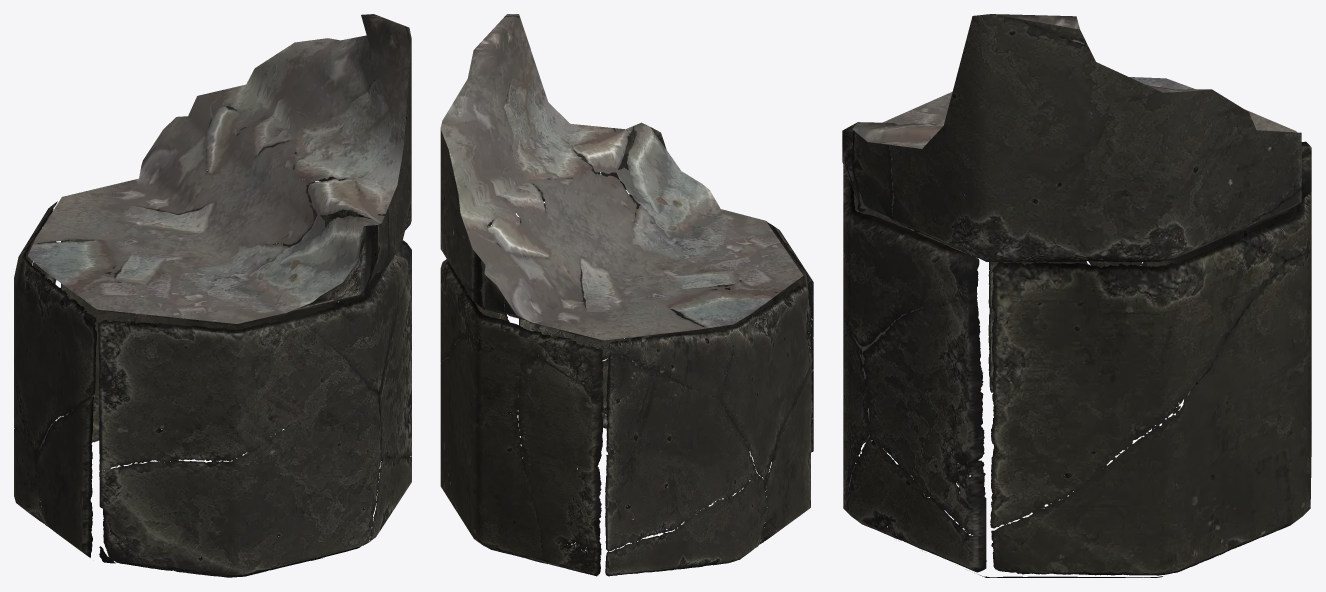
3 views of the same model, side by side, from view 1: azimuth 30°, elevation 25°; view 2: azimuth 150°, elevation 25°; view 3: azimuth 270°, elevation 25° (orthographic). The views are drawn at different scales.
Parts seen in each view (by area): view 1: SM_Greathall_Corner_Broken_01_LOD0; view 2: SM_Greathall_Corner_Broken_01_LOD0; view 3: SM_Greathall_Corner_Broken_01_LOD0.
Boxes of the visible parts, bbox=[...] form: SM_Greathall_Corner_Broken_01_LOD0: bbox=[14, 14, 411, 577]; SM_Greathall_Corner_Broken_01_LOD0: bbox=[440, 14, 813, 576]; SM_Greathall_Corner_Broken_01_LOD0: bbox=[842, 14, 1311, 577].
Bounding box in the file's own units: 2.22 × 2.97 × 2.22.
2 materials, 2 textured.
